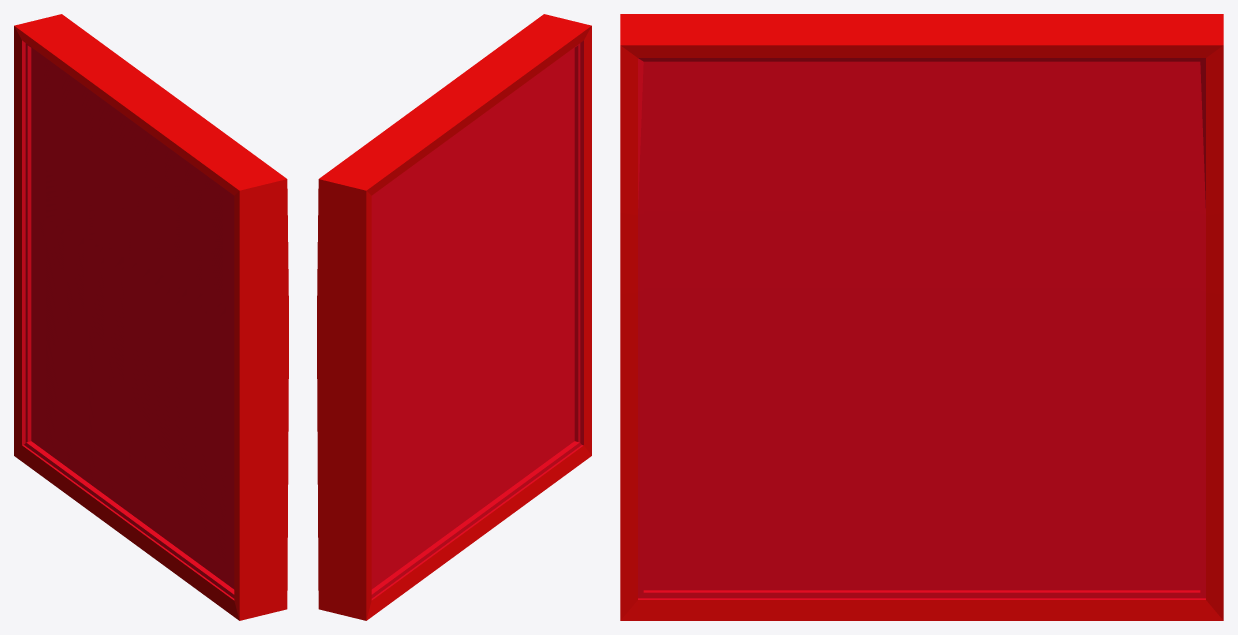
File: basicWall.obj
3 views of the same model, side by side, from view 1: azimuth 30°, elevation 25°; view 2: azimuth 150°, elevation 25°; view 3: azimuth 270°, elevation 25° (orthographic). The views are drawn at different scales.
Visible parts, largest first — view 1: BasicWall_Cube.022; view 2: BasicWall_Cube.022; view 3: BasicWall_Cube.022.
Boxes of the visible parts, left/top/right/bottom form: BasicWall_Cube.022: left=14, top=14, right=288, bottom=620; BasicWall_Cube.022: left=317, top=14, right=591, bottom=620; BasicWall_Cube.022: left=620, top=14, right=1223, bottom=620.
Size of the model in its own units: 0.1275 by 1.06 by 1.01.
